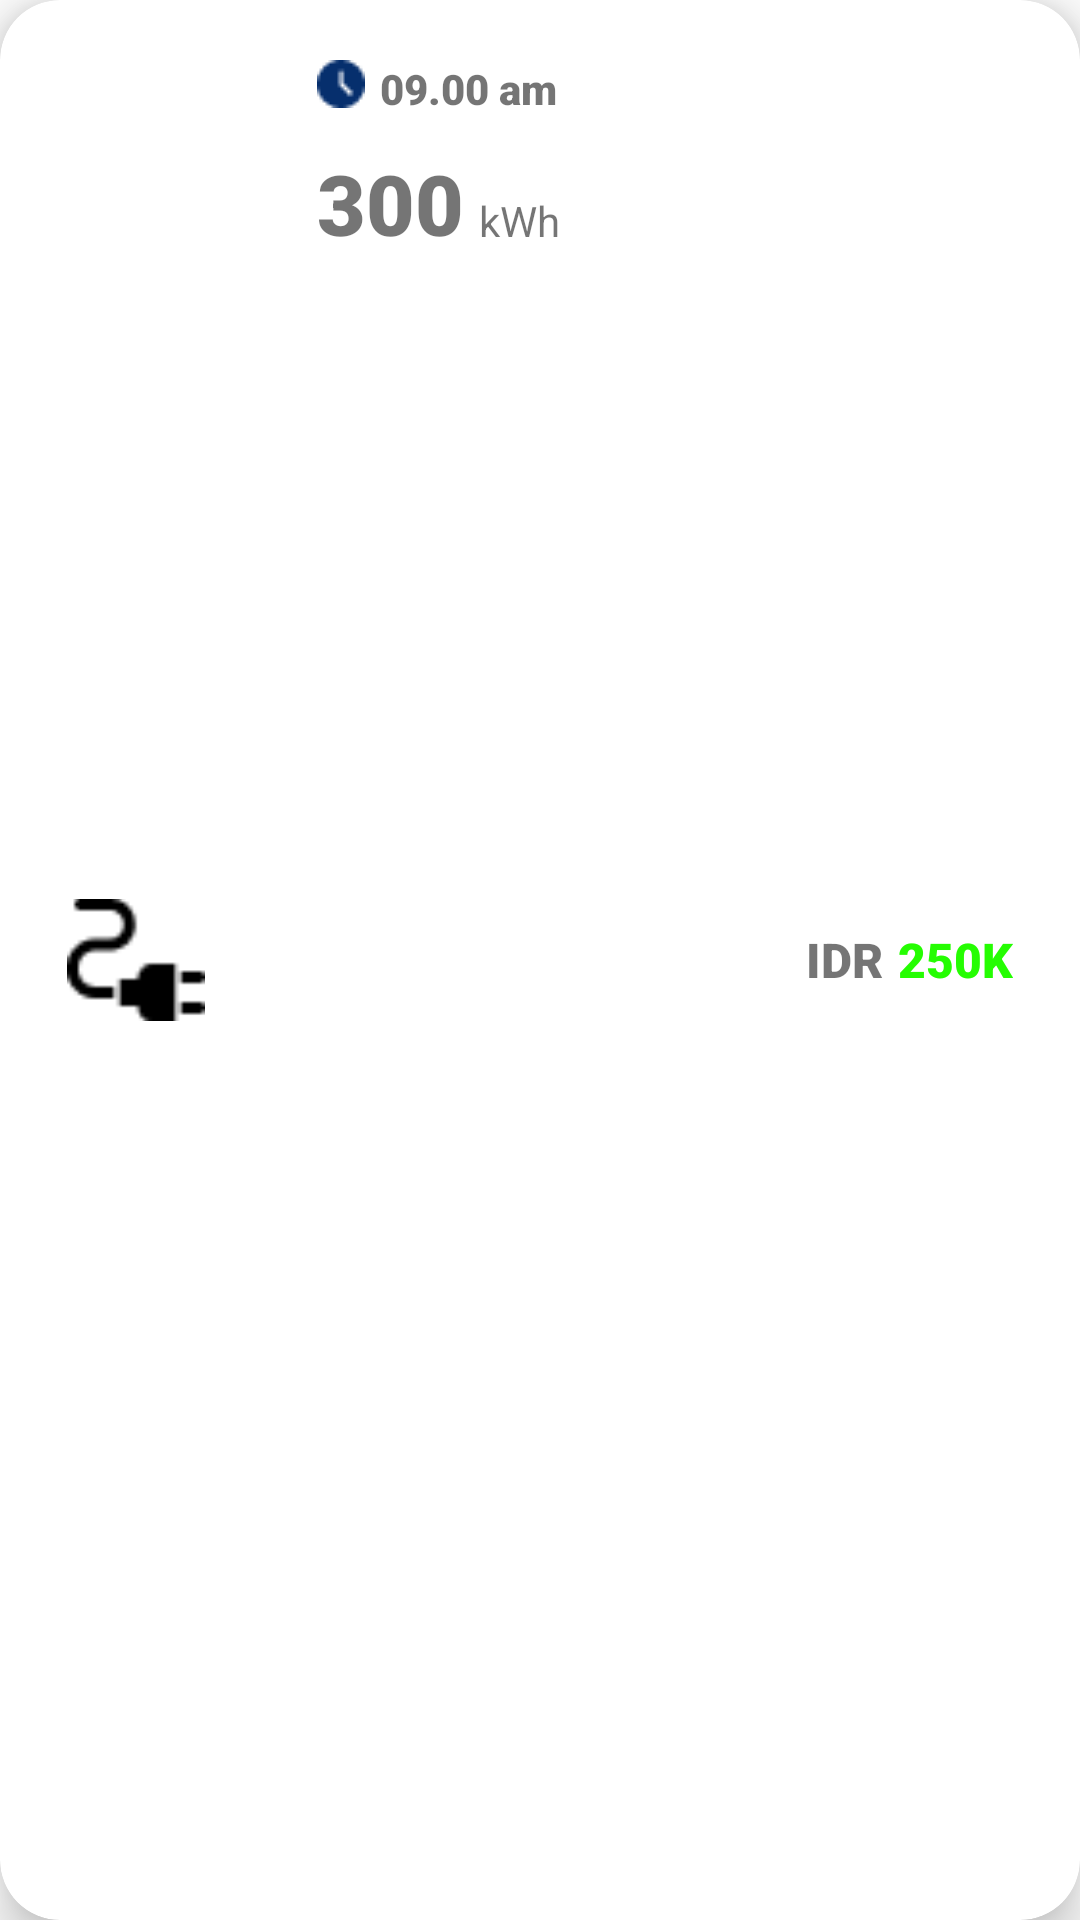

Icon click points for this 1080px×1920px phone screenshot, format (x,y):
cable: (136,960)
clock: (341,84)
